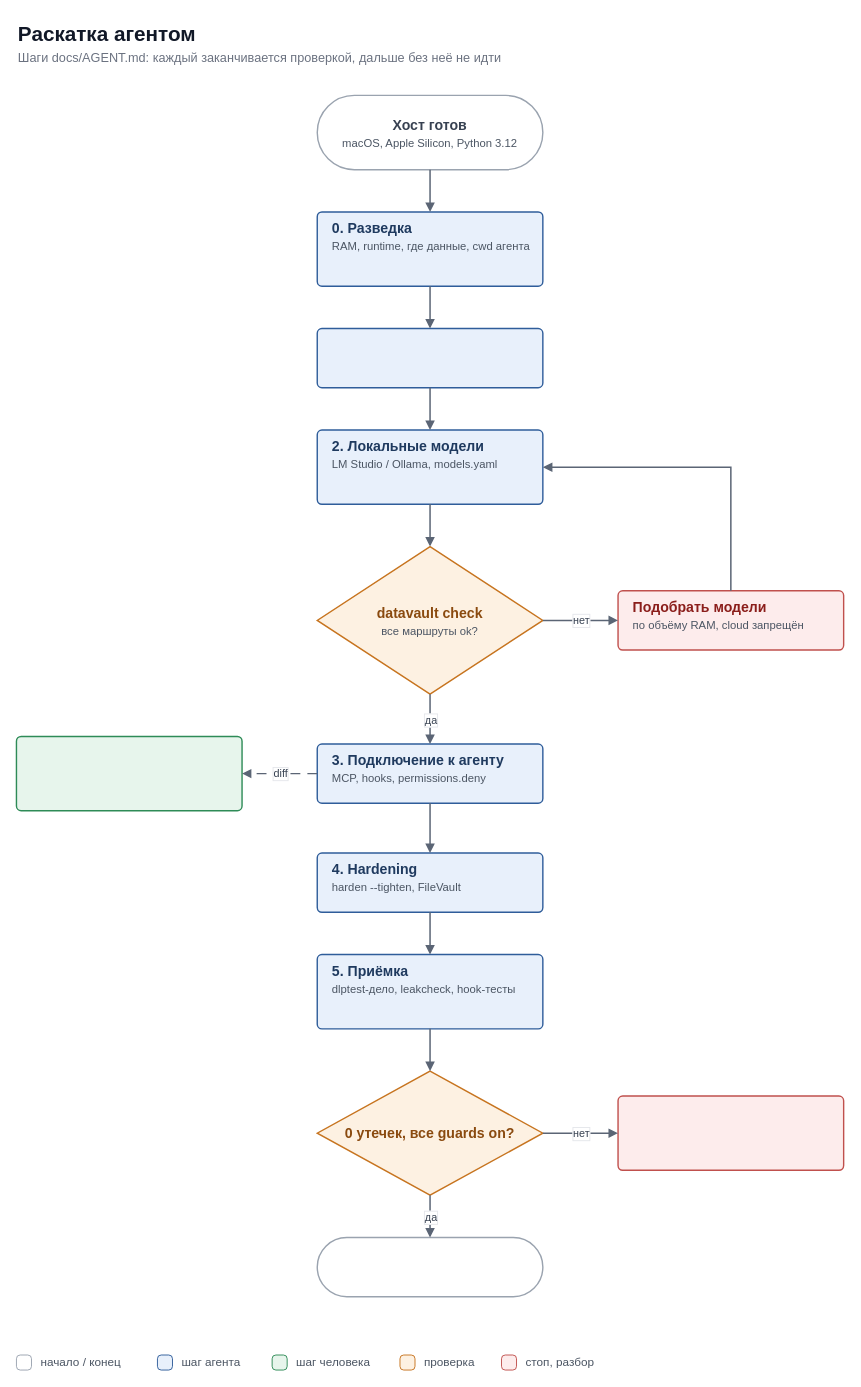
Image size: 861x1387. Some labels were removed from this diagram. Here are the shapes that lost their labels. From the top down, the centre of each, then its label:
At pixel 429 357: "1. Установка venv, pip install, pytest".
At pixel 128 773: "Утверждение человек смотрит diff settings.json".
At pixel 730 1133: "Стоп отчёт человеку, данные не грузить".
At pixel 429 1266: "Готово к делам отчёт о раскатке".
